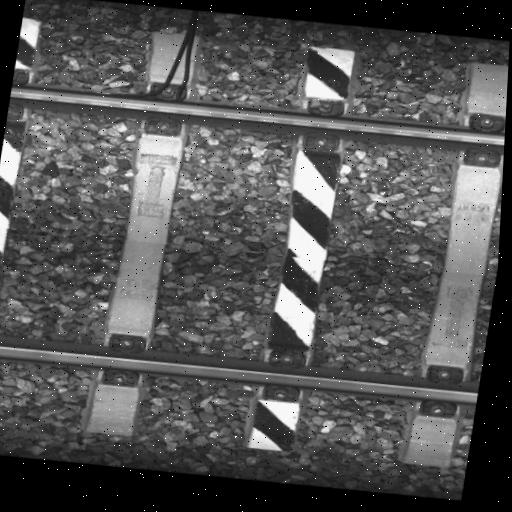sleeper: (243, 45, 359, 454), (91, 30, 196, 437), (409, 61, 509, 468), (0, 16, 38, 421)
